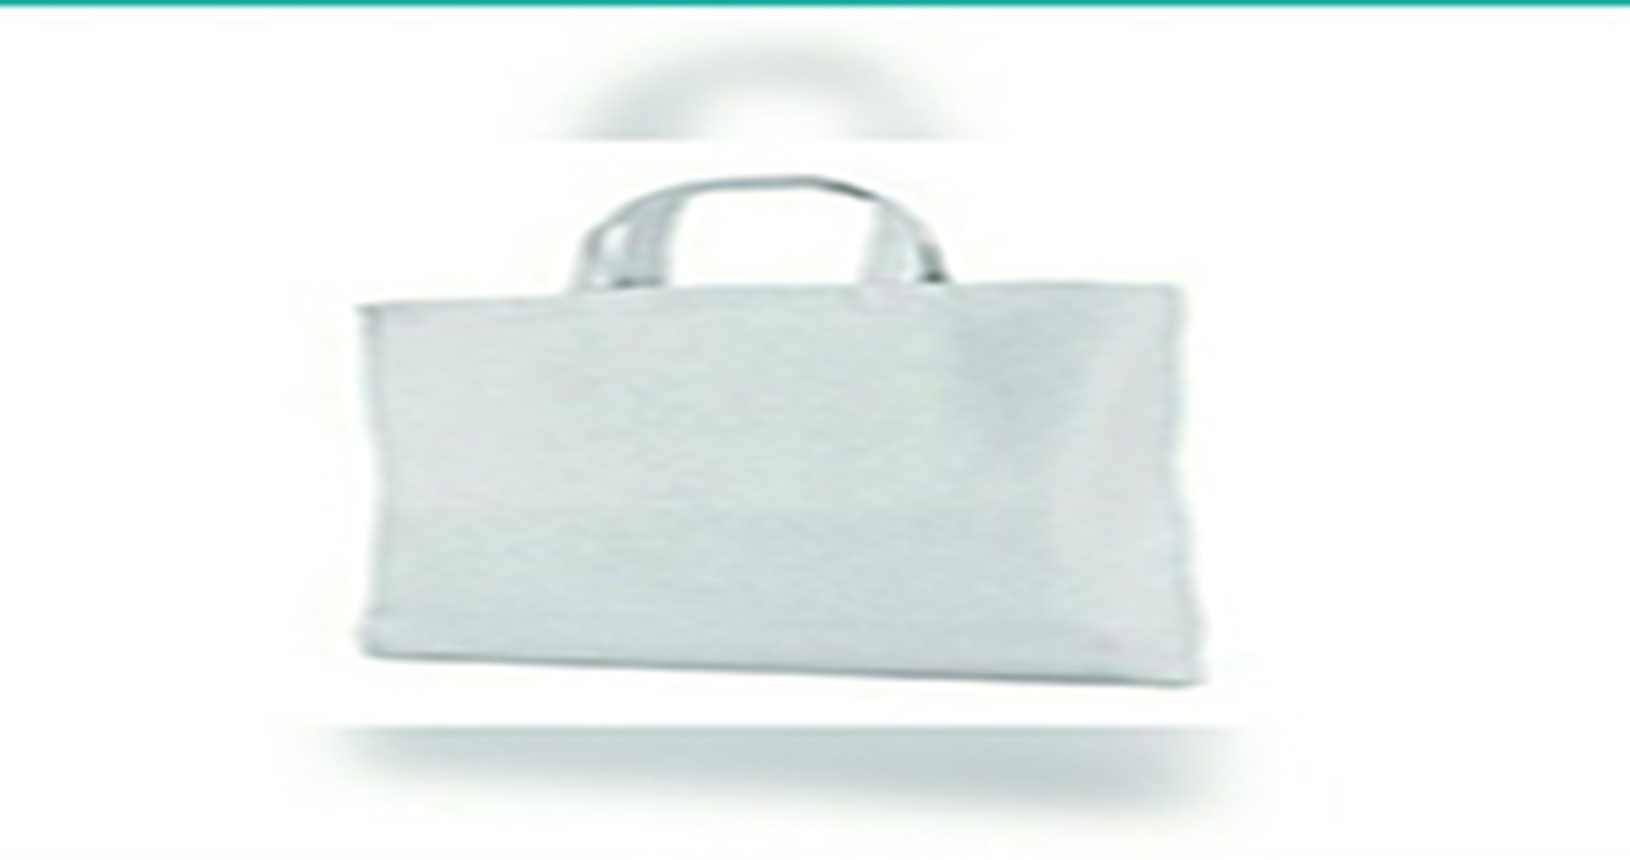clothbag: (349, 171, 1210, 694)
